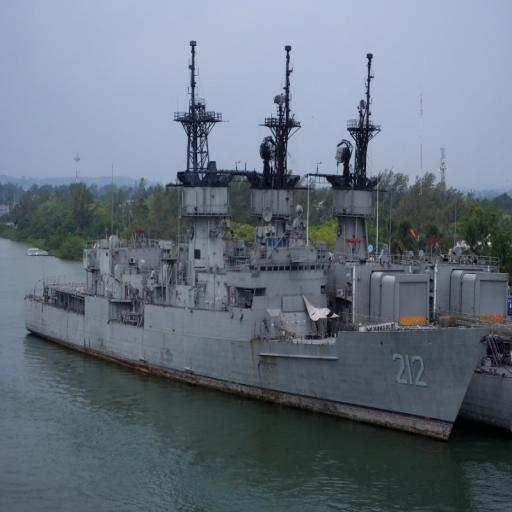Fragata: (23, 34, 497, 451)
